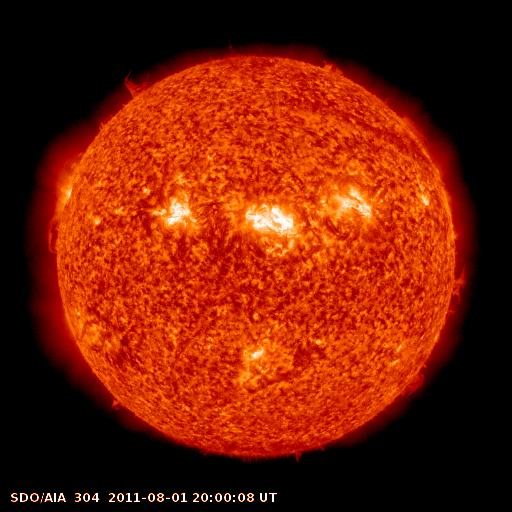prominence: (437, 261, 475, 321), (114, 66, 156, 108), (393, 358, 433, 400), (397, 112, 435, 153), (36, 212, 66, 260), (312, 53, 341, 75)
